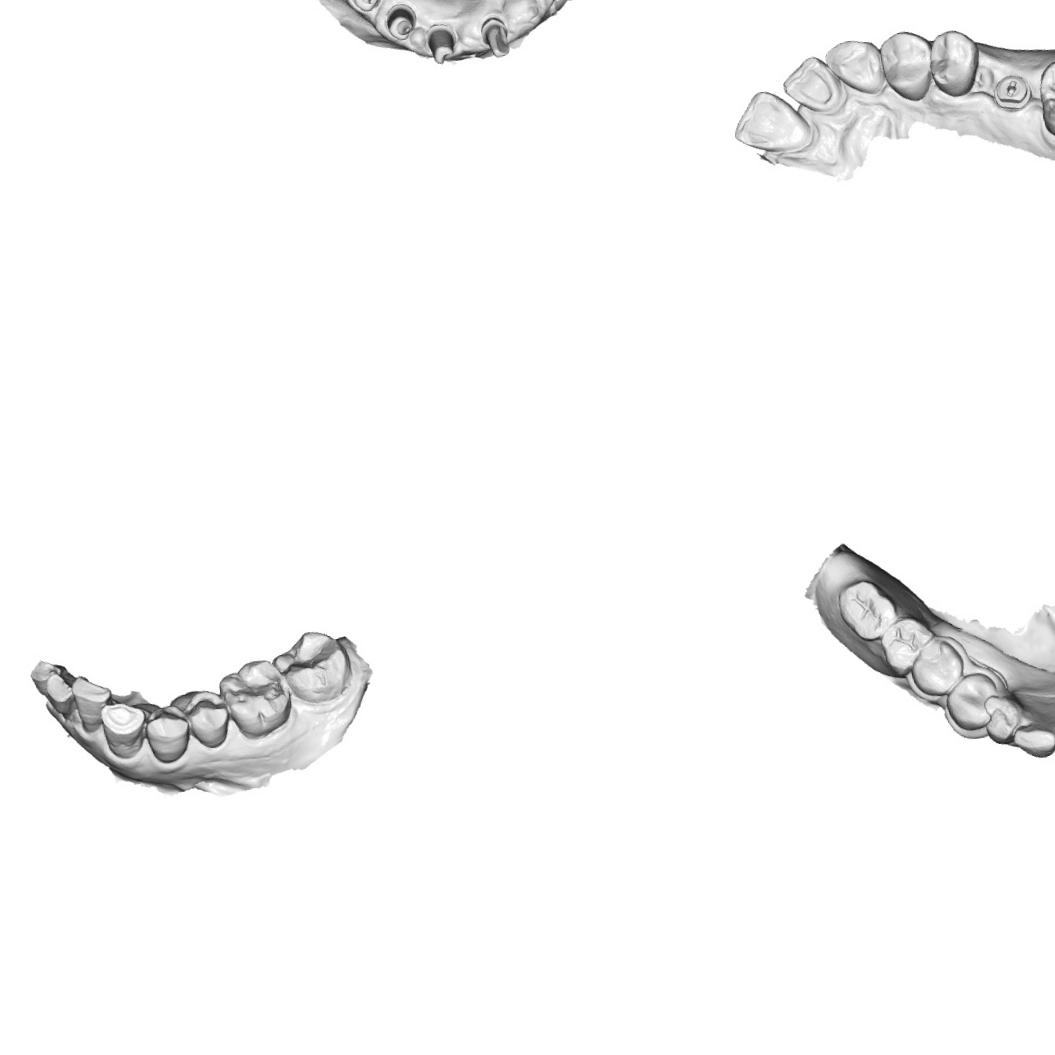abutment: (422, 20, 463, 67), (478, 13, 514, 62), (382, 0, 421, 44), (347, 0, 387, 14)
canine: (824, 34, 886, 102), (98, 698, 150, 762), (1008, 713, 1055, 763)
implant_minus: (991, 66, 1036, 116)
incisor: (727, 82, 814, 160), (776, 52, 850, 122), (69, 671, 116, 735), (44, 670, 78, 726), (27, 657, 70, 698)
molar: (268, 626, 356, 710), (215, 656, 295, 742), (835, 573, 903, 645), (874, 610, 940, 678), (1033, 51, 1055, 148)
premolar: (875, 27, 936, 107), (927, 22, 986, 102), (906, 634, 968, 700), (943, 668, 1003, 734), (181, 686, 234, 752), (142, 702, 194, 766)
